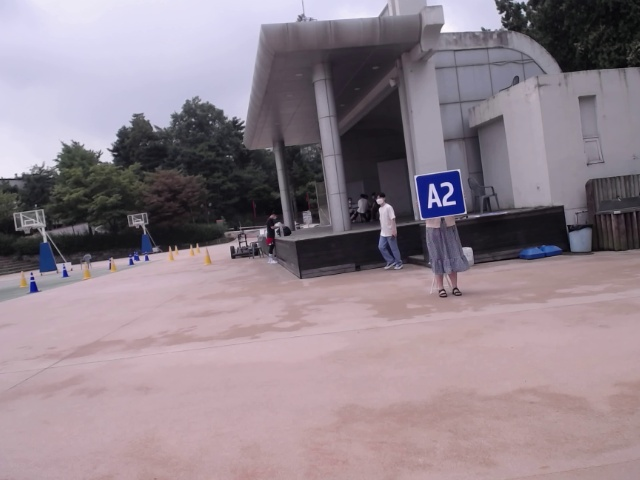delivery_a2: (416, 171, 466, 219)
